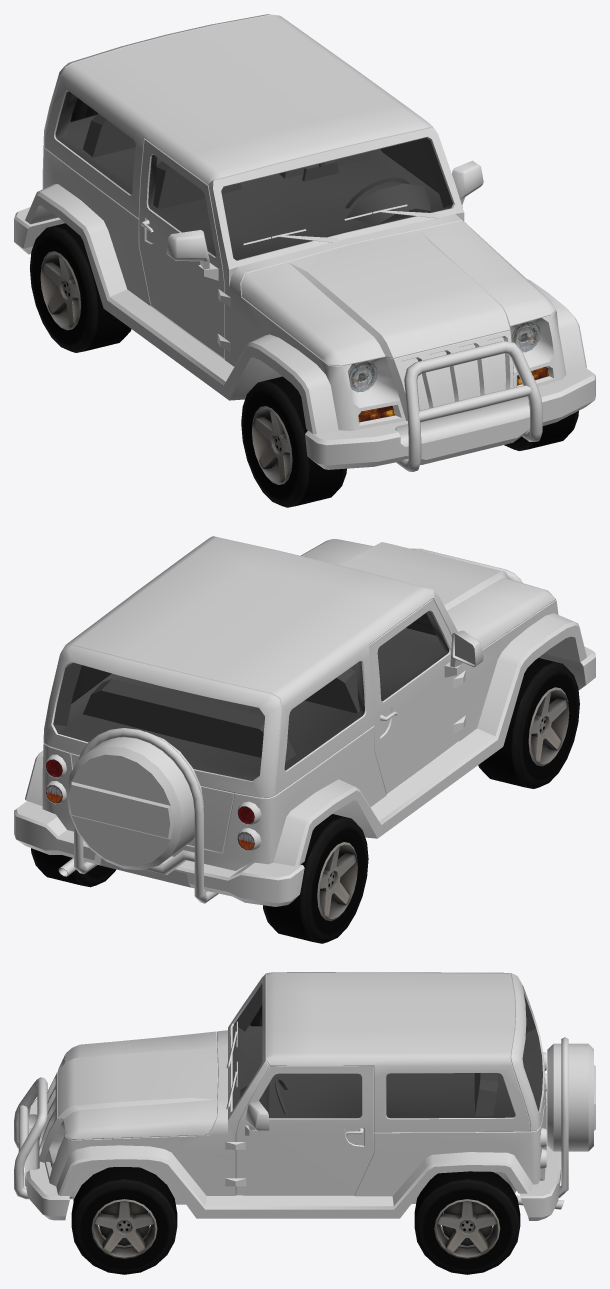
The model's file is generic-offroad.glb.
The picture shows the model from 3 angles, top to bottom: view 1: azimuth 30°, elevation 25°; view 2: azimuth 150°, elevation 25°; view 3: azimuth 270°, elevation 25°; orthographic projection. The views are drawn at different scales.
Visible parts, largest first — view 1: Offroad Body_Body_0, Offroad Body_Glass_0, Wheel_G001_Wheel_0, Wheel_G002_Wheel_0, Offroad Body_Optics_0, Wheel_G_Wheel_0; view 2: Offroad Body_Body_0, Offroad Body_Glass_0, Wheel_G001_Wheel_0 (×2), Wheel_G002_Wheel_0, Offroad Body_Optics_0; view 3: Offroad Body_Body_0, Offroad Body_Glass_0, Wheel_G_Wheel_0, Wheel_G001_Wheel_0.
Part boxes in pixels (<box>): Offroad Body_Body_0: <box>14,14,595,471</box>; Offroad Body_Glass_0: <box>55,91,452,260</box>; Wheel_G001_Wheel_0: <box>241,376,346,507</box>; Wheel_G002_Wheel_0: <box>30,223,131,352</box>; Offroad Body_Optics_0: <box>349,321,548,422</box>; Wheel_G_Wheel_0: <box>504,411,578,450</box>; Offroad Body_Body_0: <box>14,536,595,906</box>; Offroad Body_Glass_0: <box>53,611,449,780</box>; Wheel_G001_Wheel_0 (×2): <box>31,658,579,887</box>; Wheel_G002_Wheel_0: <box>263,814,368,943</box>; Offroad Body_Optics_0: <box>45,759,254,850</box>; Offroad Body_Body_0: <box>14,972,595,1220</box>; Offroad Body_Glass_0: <box>232,984,542,1118</box>; Wheel_G_Wheel_0: <box>71,1167,177,1274</box>; Wheel_G001_Wheel_0: <box>414,1171,520,1274</box>.
Size of the model in its own units: 1.96 by 1.57 by 3.94.
4 materials, 2 textured.
